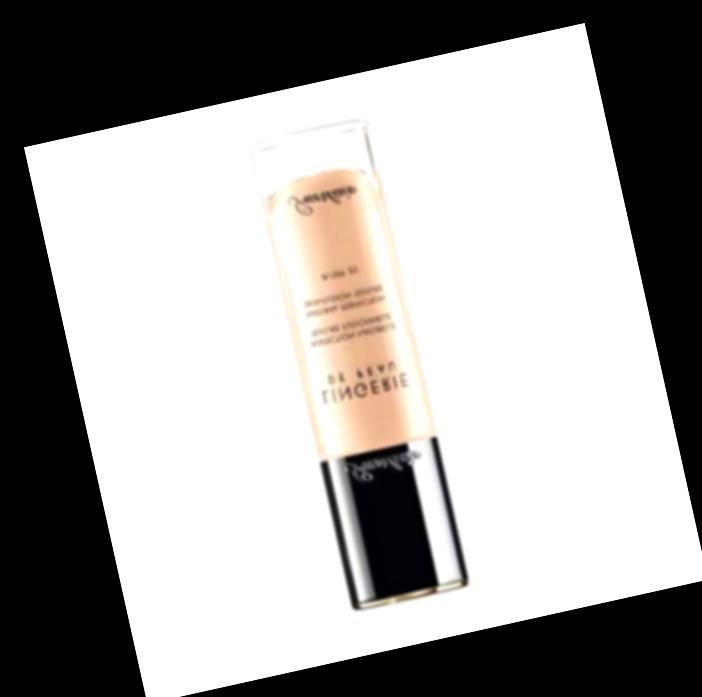cosmetic: (249, 118, 474, 613)
